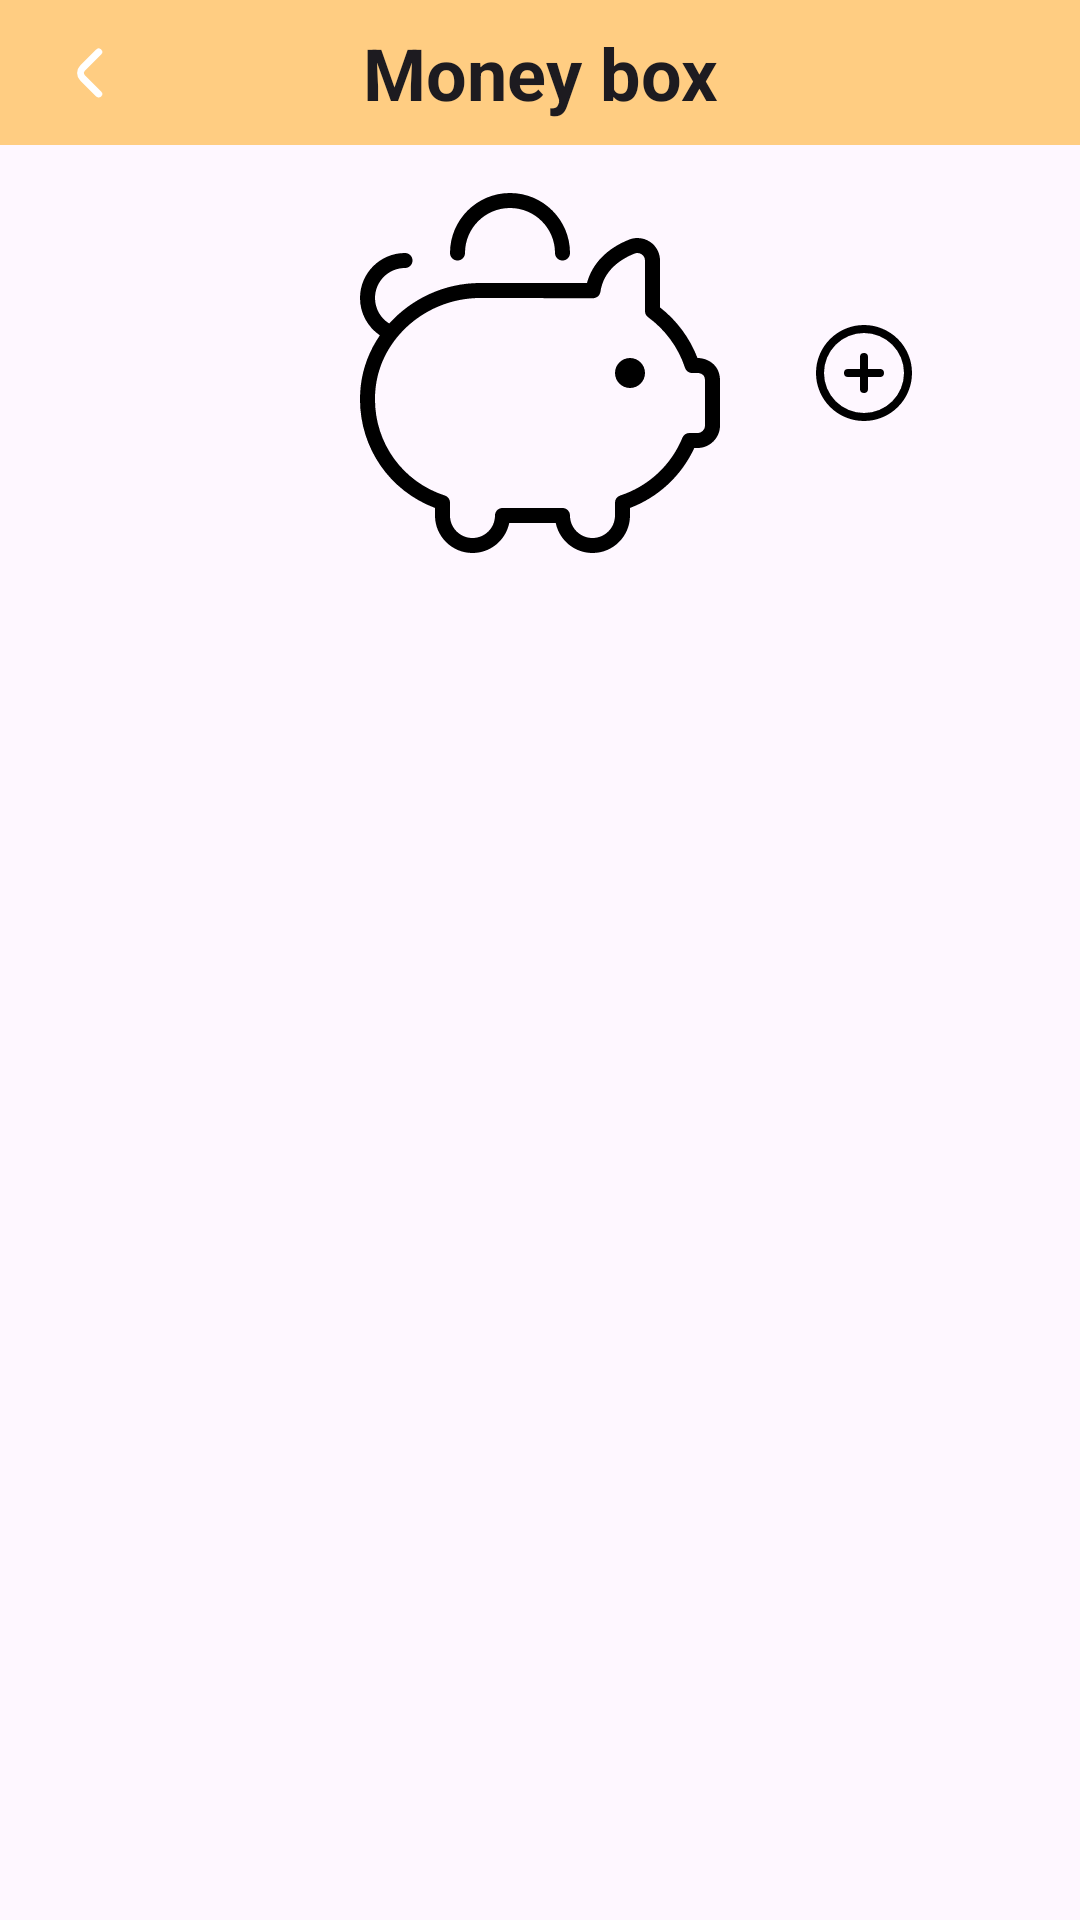

Icons on this 1080 × 1920 Android screen, each with its box as (x1, y1, x2, y2):
Go back to home screen: (77, 48, 103, 98)
Replenish your money box: (816, 325, 912, 421)
